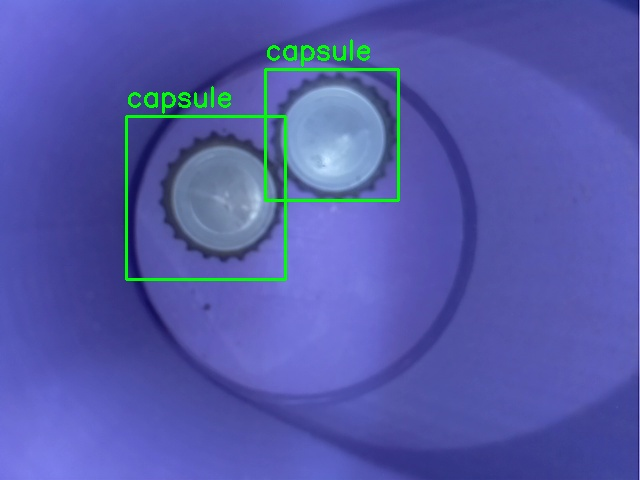capsule: (126, 116, 285, 279), (265, 69, 398, 200)
